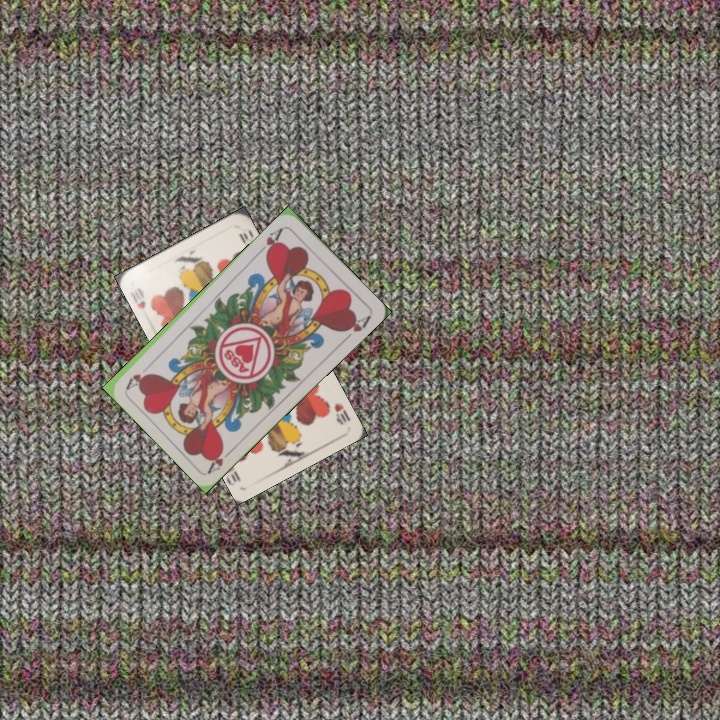H10: (330, 399, 353, 428), (133, 284, 149, 311)
HA: (255, 223, 287, 259), (204, 443, 238, 475)
